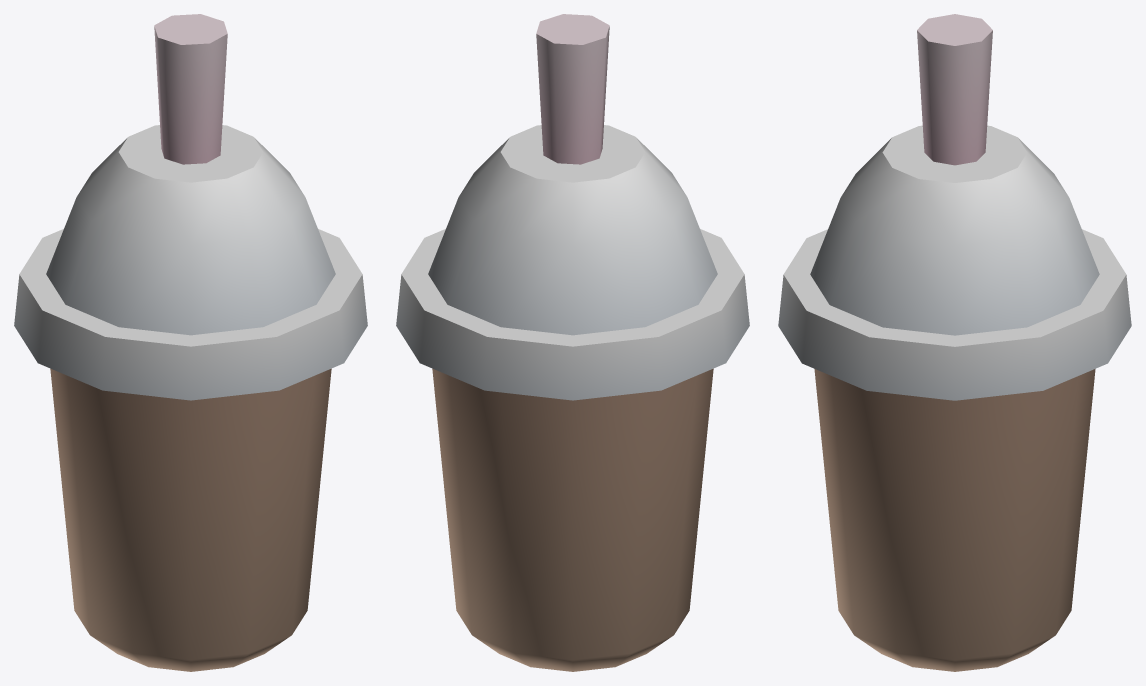
Rendered from boba-tea (%thumbnail).glb.
The picture shows the model from 3 angles, left to right: view 1: azimuth 30°, elevation 25°; view 2: azimuth 150°, elevation 25°; view 3: azimuth 270°, elevation 25°; orthographic projection.
Visible parts, largest first — view 1: boba-tea (%thumbnail); view 2: boba-tea (%thumbnail); view 3: boba-tea (%thumbnail).
Part boxes in pixels (bbox=[...]): boba-tea (%thumbnail): bbox=[14, 14, 367, 671]; boba-tea (%thumbnail): bbox=[396, 14, 749, 671]; boba-tea (%thumbnail): bbox=[778, 14, 1131, 671].
Size of the model in its own units: 0.1891 by 0.3578 by 0.1891.
